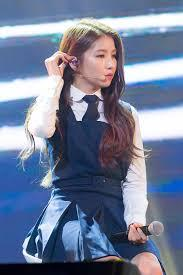earphone: (69, 57, 81, 71)
